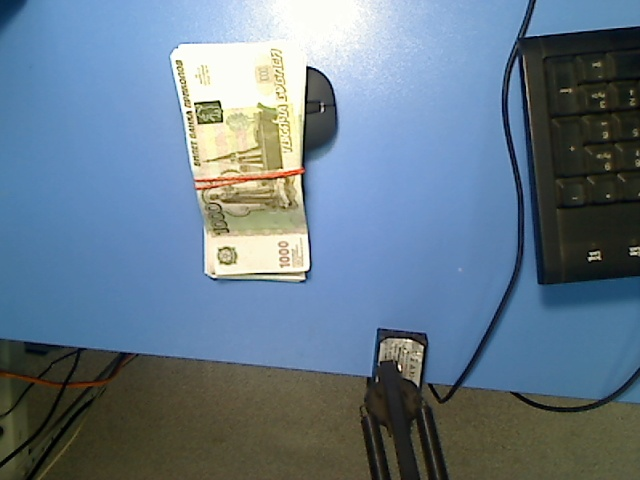banknotes: (167, 41, 314, 284)
